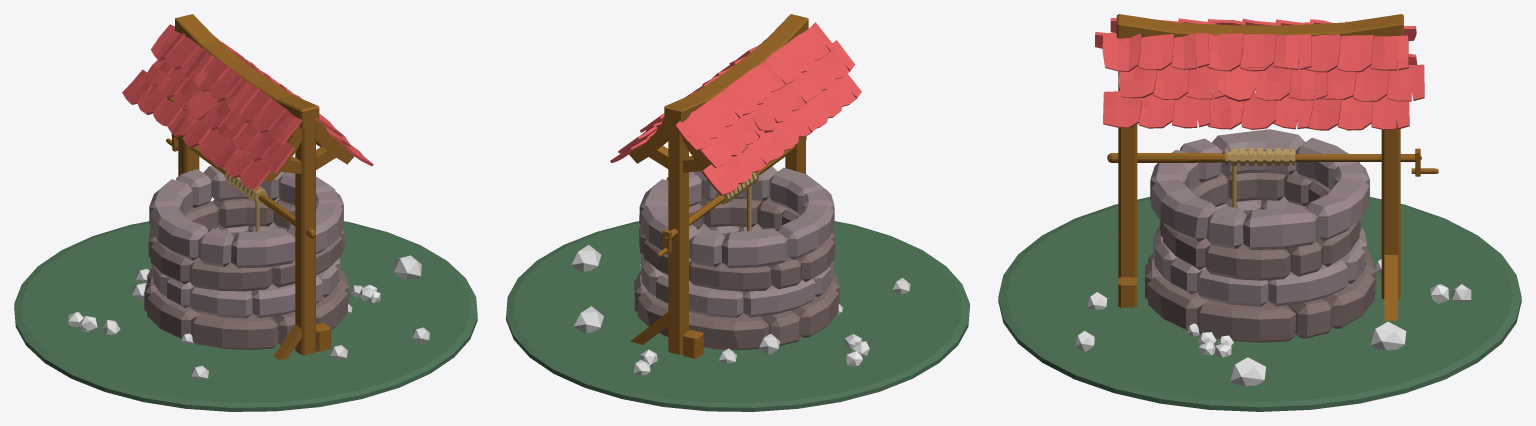
File: well.fbx
3 renders of one model, left to right at view 1: azimuth 30°, elevation 25°; view 2: azimuth 150°, elevation 25°; view 3: azimuth 270°, elevation 25°, orthographic. The views are drawn at different scales.
Parts seen in each view (by area): view 1: Floor, Plane.000, Cylinder, Cube.003, Cube.002, Cube, Cube.001, Cylinder.002, Icosphere.010; view 2: Floor, Plane.000, Cylinder, Cube.003, Cube.002, Cube, Cube.001, Cylinder.002, Icosphere.010, Icosphere.001; view 3: Floor, Plane.000, Cube.003, Cylinder, Cube.002, Cube, Cube.001, Cylinder.002, Icosphere.001, Icosphere.010.
Part boxes in pixels (box(x1,y1,x2,y2)): Floor: box(14, 221, 477, 411); Plane.000: box(122, 24, 373, 189); Cylinder: box(166, 14, 354, 360); Cube.003: box(149, 166, 344, 268); Cube.002: box(148, 197, 344, 291); Cube: box(144, 268, 349, 349); Cube.001: box(152, 222, 340, 318); Cylinder.002: box(224, 171, 267, 231); Icosphere.010: box(394, 255, 421, 278); Floor: box(506, 221, 969, 411); Plane.000: box(610, 22, 861, 195); Cylinder: box(629, 14, 808, 358); Cube.003: box(639, 166, 834, 268); Cube.002: box(639, 197, 835, 291); Cube: box(634, 271, 839, 350); Cube.001: box(641, 223, 833, 317); Cylinder.002: box(715, 171, 759, 231); Icosphere.010: box(571, 245, 601, 271); Icosphere.001: box(574, 306, 603, 332); Floor: box(998, 197, 1521, 411); Plane.000: box(1095, 18, 1424, 130); Cube.003: box(1150, 129, 1369, 250); Cylinder: box(1107, 14, 1438, 320); Cube.002: box(1160, 170, 1360, 280); Cube: box(1145, 248, 1376, 342); Cube.001: box(1153, 196, 1367, 306); Cylinder.002: box(1225, 148, 1295, 207); Icosphere.001: box(1370, 321, 1406, 350); Icosphere.010: box(1230, 357, 1265, 385).
Size of the model in its own units: 2826 by 1690 by 2826.
